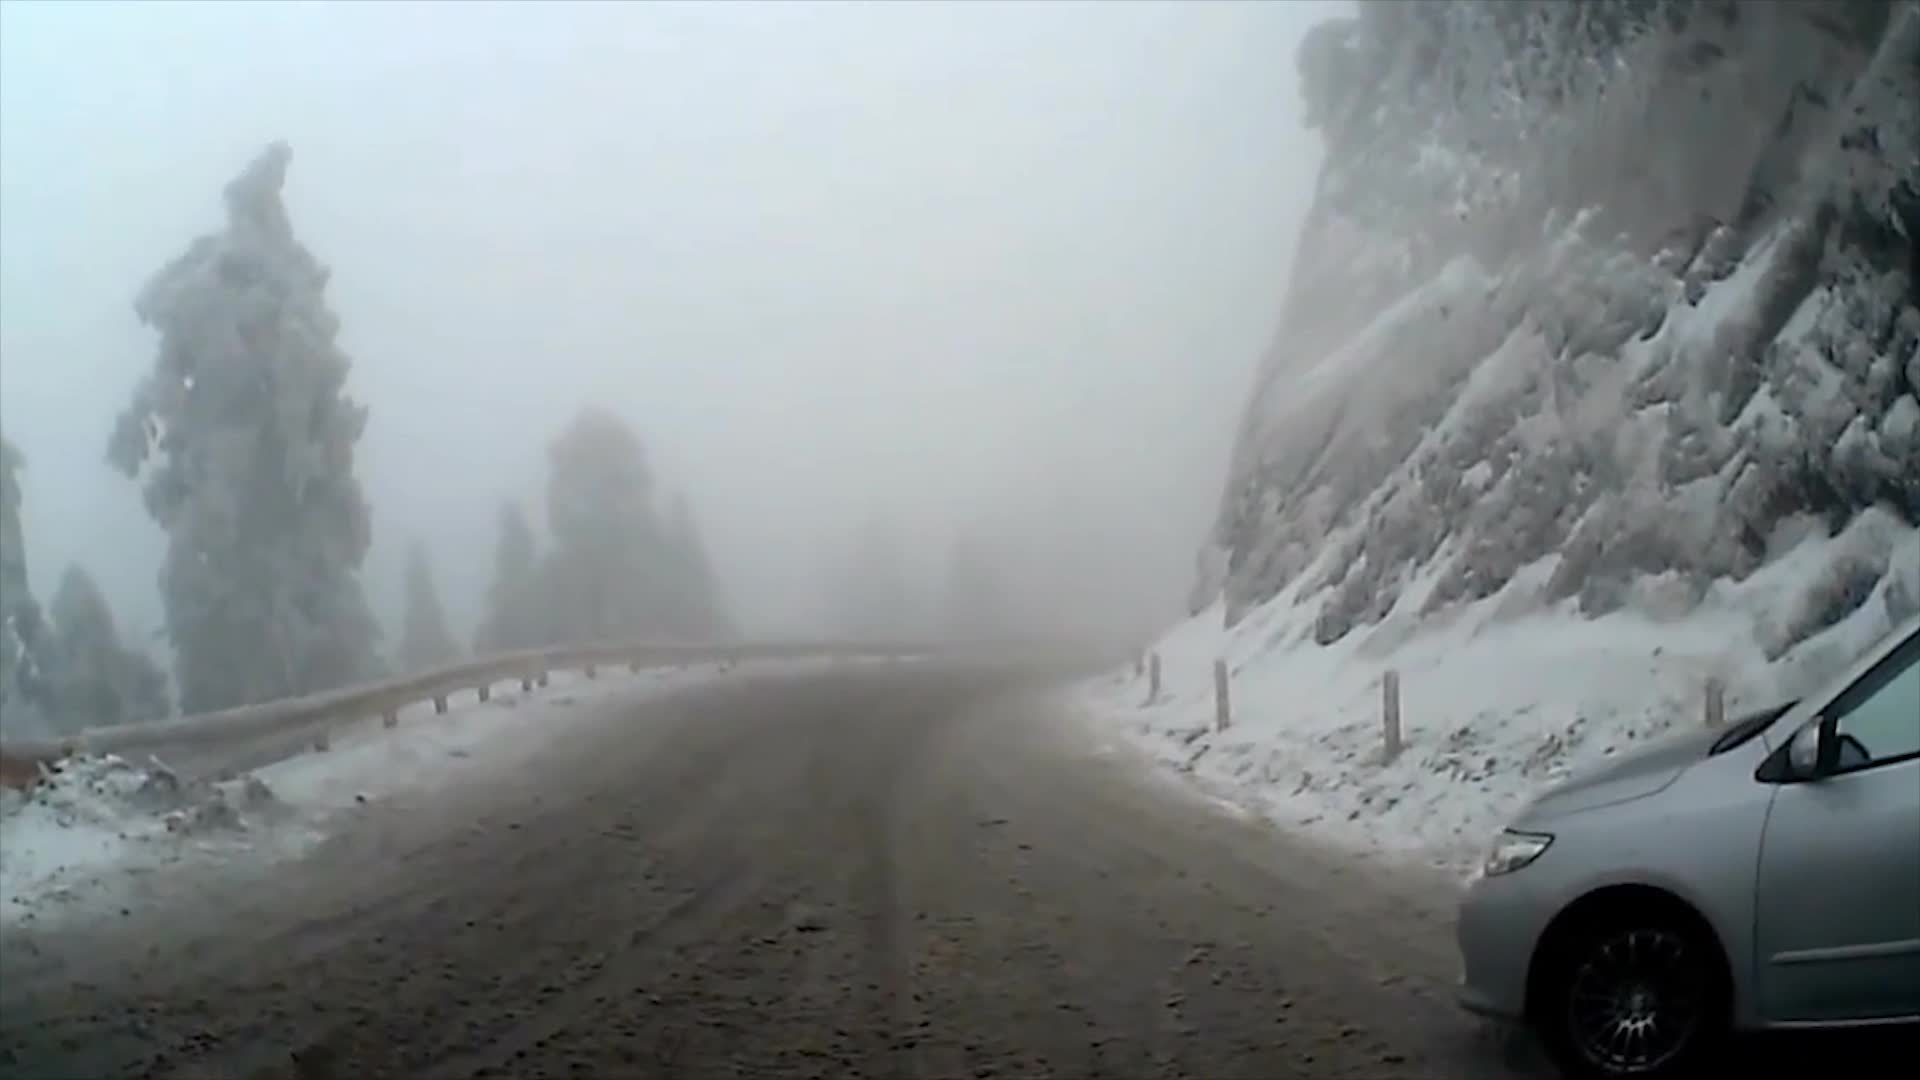vehicle: (1448, 608, 1920, 1080)
